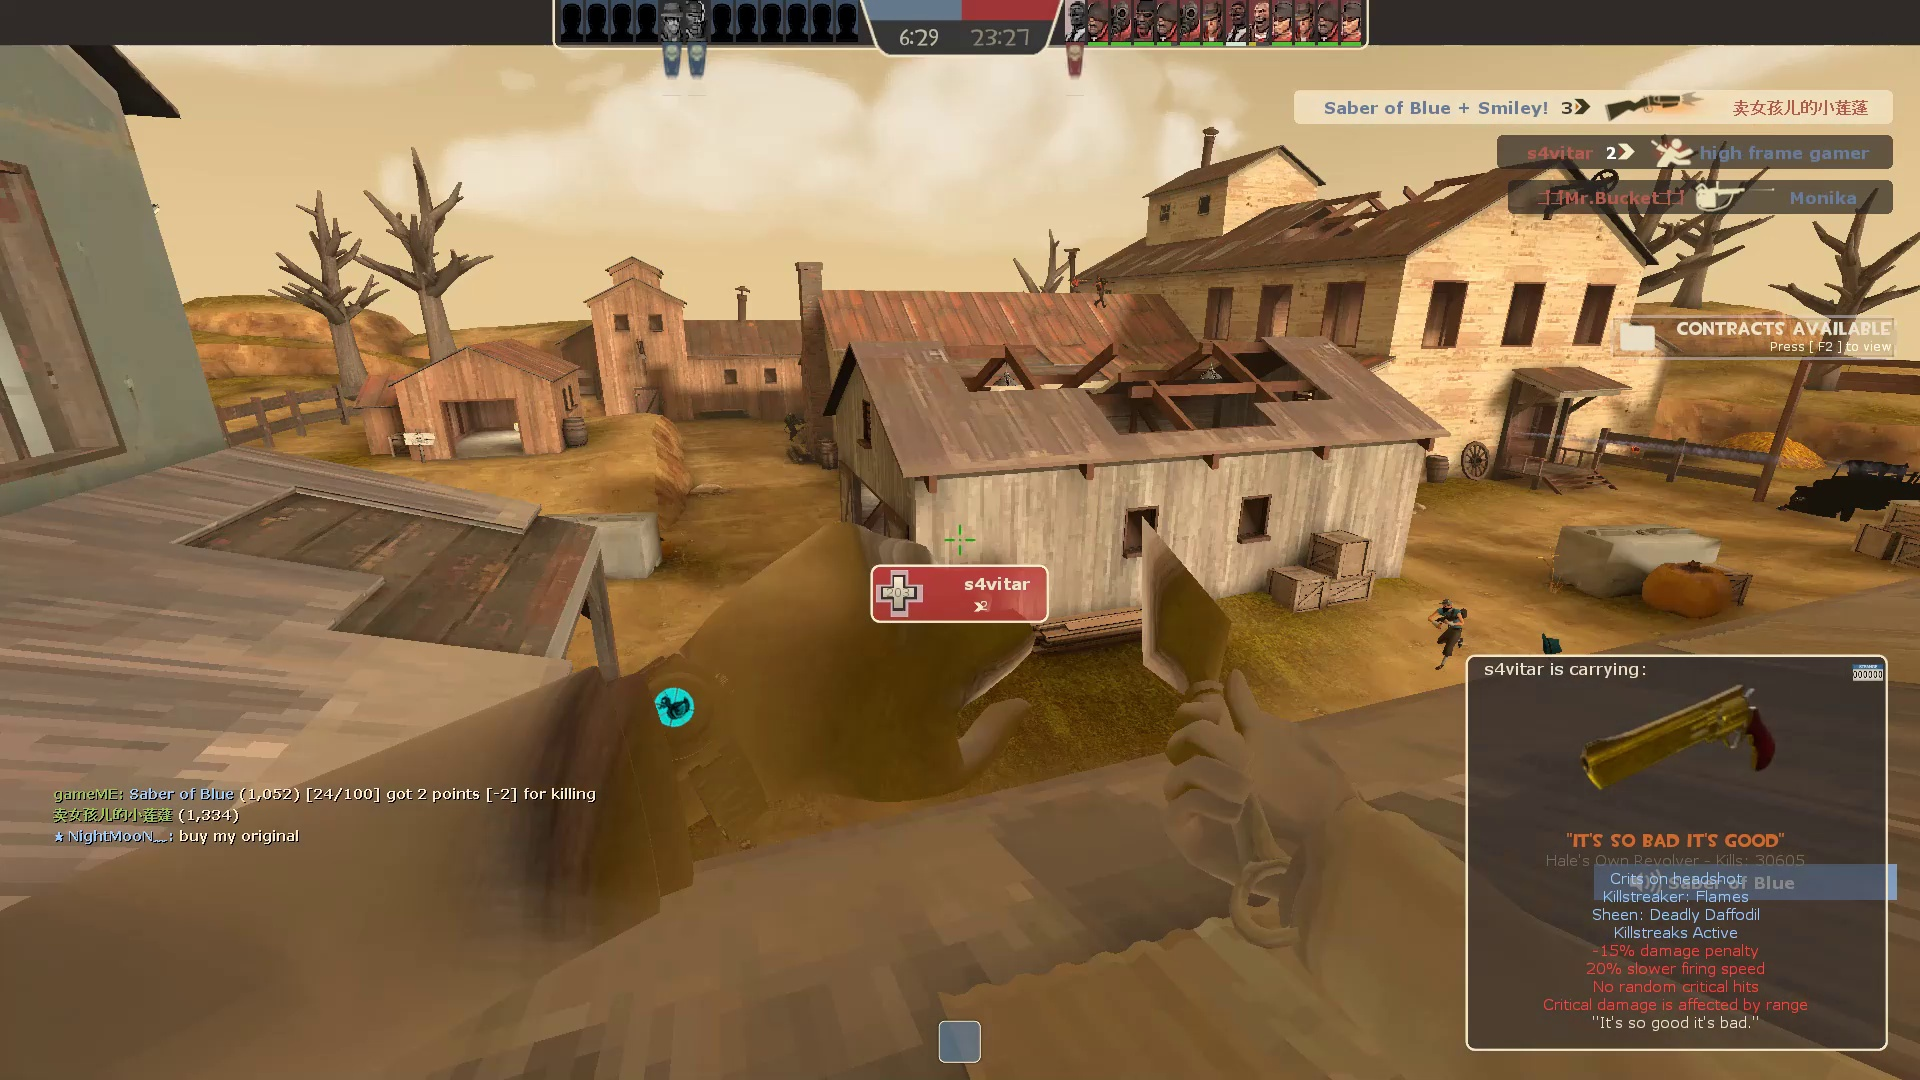blu_pyro: (781, 410, 800, 444)
blu_scout: (1414, 596, 1474, 674)
